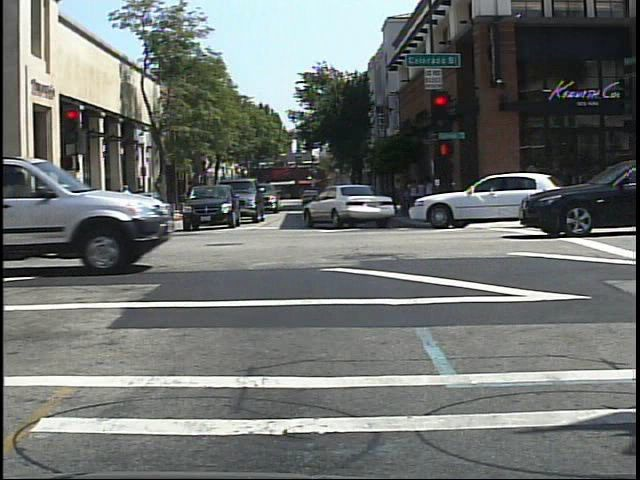person: (116, 181, 134, 220)
